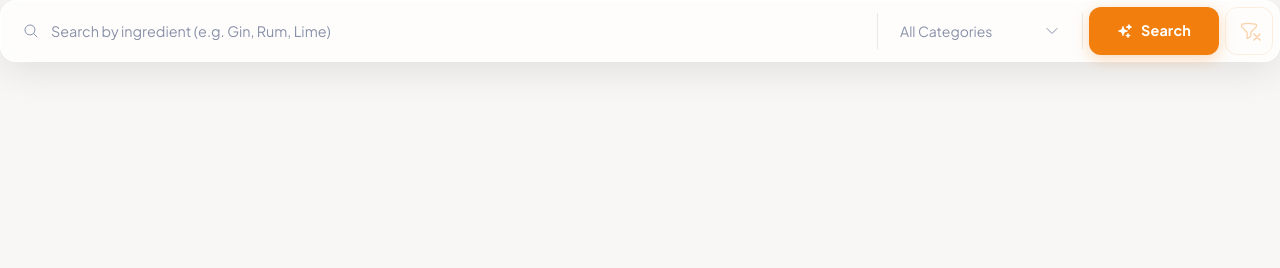
SearchForm › category dropdown › selecting a category enables the Clear button
Click the button "All Categories".
click(980, 31)  # box [884,7,1076,55]
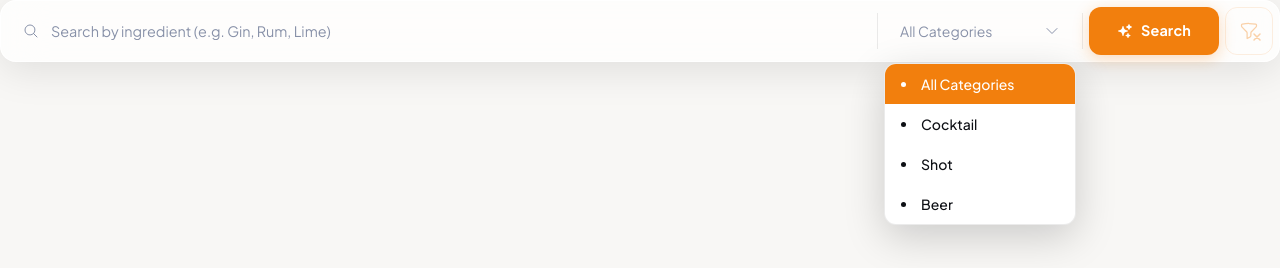
Expected: the option "All Categories" is shown, [885,64,1075,104]
Click the option "Cocktail".
click(949, 124)  # box [921,115,977,133]
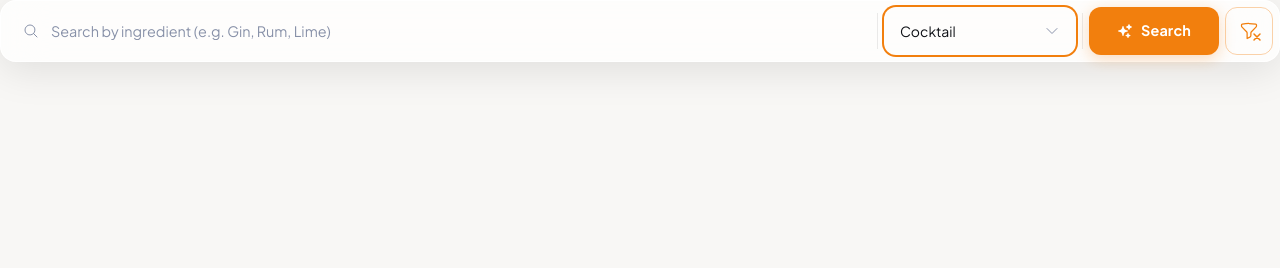
Expected: the button named "clear search filters" is enabled, [1225,7,1273,55]
